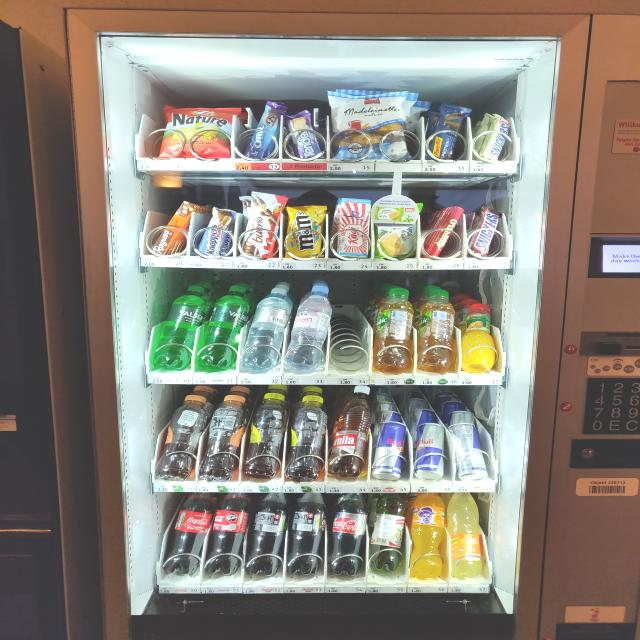bueno___43__4008400320328: (242, 193, 286, 258)
coke__flasche_50__54491472: (198, 495, 250, 576), (164, 495, 209, 575)
coke_light_flasche_50__5449238: (327, 493, 368, 579)
coke_zero_flasche_50__5449000131836: (244, 490, 287, 575), (288, 492, 328, 574)
darwida_sandwich____7610032065170: (376, 198, 418, 260)
erle____: (330, 90, 411, 162)
evian___50__3068320353500: (280, 284, 334, 372)
fanta___50__40822938: (403, 495, 447, 579)
fuse_lemon__50__5449000235947: (240, 395, 287, 480), (285, 393, 328, 483)
fuse_peach__50__5449000236623: (155, 394, 208, 484), (196, 394, 247, 481)
granini_orange__50__: (457, 305, 501, 371)
kagi_specialedition__50__7610046000259: (327, 196, 372, 262)
knoppers_riegel____4035800488808: (196, 209, 235, 257)
milka_oreo_riegel_37_1_7622210704740: (241, 101, 282, 160)
milka_tender____: (286, 113, 322, 161)
mnms_gelb__45__40111445: (286, 204, 327, 258)
powerbar_proteinplusschoko__55__4029679520028: (427, 106, 467, 161)
ragusa___50__76401121: (147, 202, 193, 254)
ramseier_jusdepomme__50__7610057001078: (371, 496, 403, 572)
redbull___33__90162909: (369, 420, 409, 480), (449, 423, 490, 480), (415, 424, 449, 478)
rivella_rot__50__7610097111072: (325, 387, 373, 477)
schweppes_citrus__50__: (445, 496, 486, 577)
snickers___50__5000159461122: (468, 206, 503, 256)
snickers_weis__50__5000159461122: (476, 112, 514, 162)
torino___46__76415272: (427, 206, 466, 258)
valser_classic__50__76404160: (193, 284, 252, 367), (154, 285, 206, 369)
valser_still__50__7610335002575: (239, 284, 289, 374)
volvic_teeminze__50__3057640335648: (372, 285, 416, 374), (417, 291, 457, 374)
zweifel_salz__90__7610095005007: (151, 104, 235, 159)
